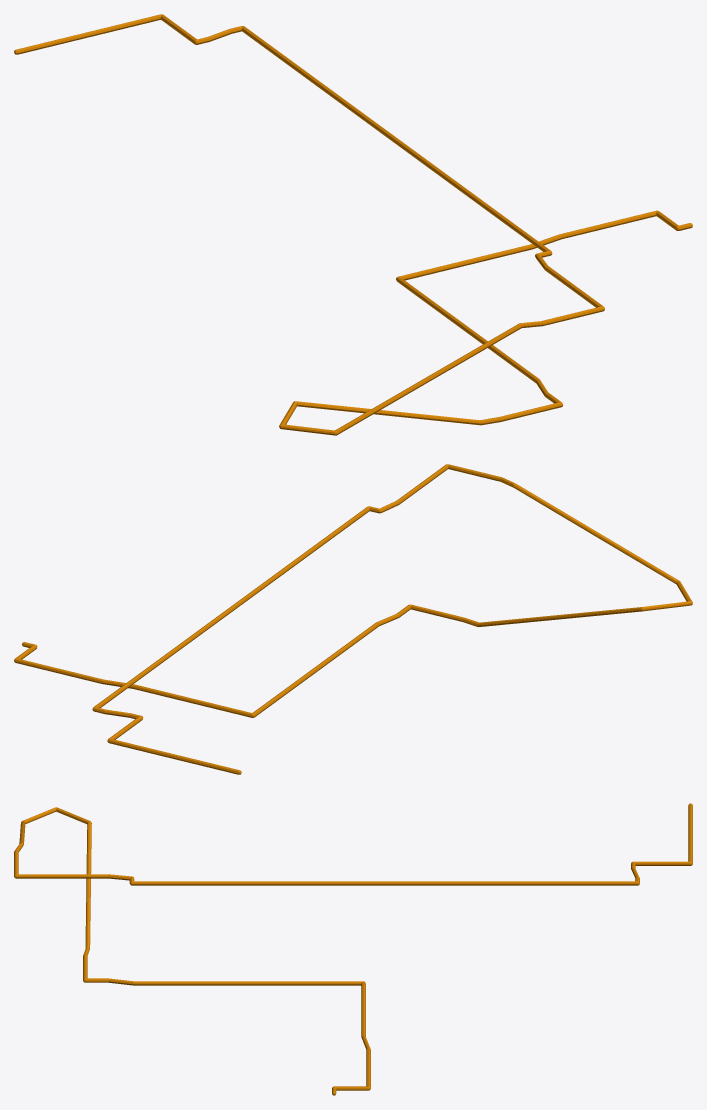
The picture shows the model from 3 angles, top to bottom: view 1: azimuth 30°, elevation 25°; view 2: azimuth 150°, elevation 25°; view 3: azimuth 270°, elevation 25°; orthographic projection. The views are drawn at different scales.
Bounding box in the file's own units: 2408 × 520 × 2954.
